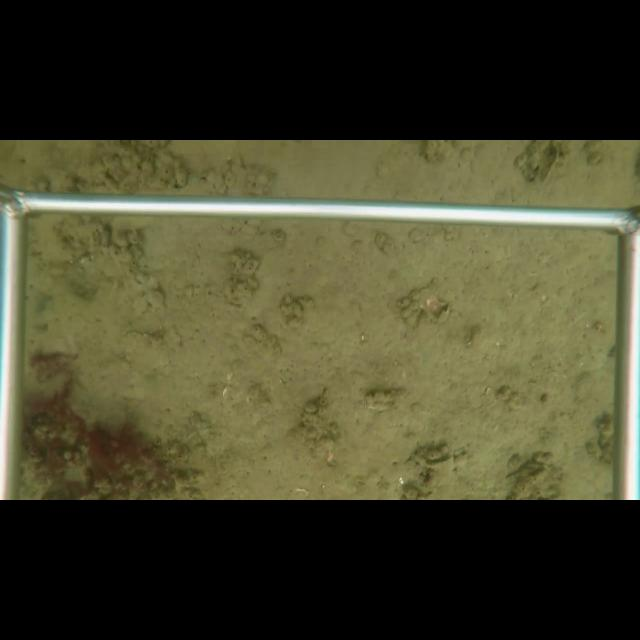Oyster-Closed: (112, 327, 175, 379), (541, 144, 563, 187), (420, 454, 454, 471)
Oyster-Open: (433, 301, 453, 324)
